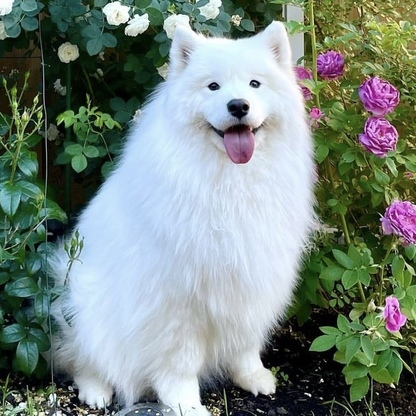samoyed: (29, 13, 321, 416)
